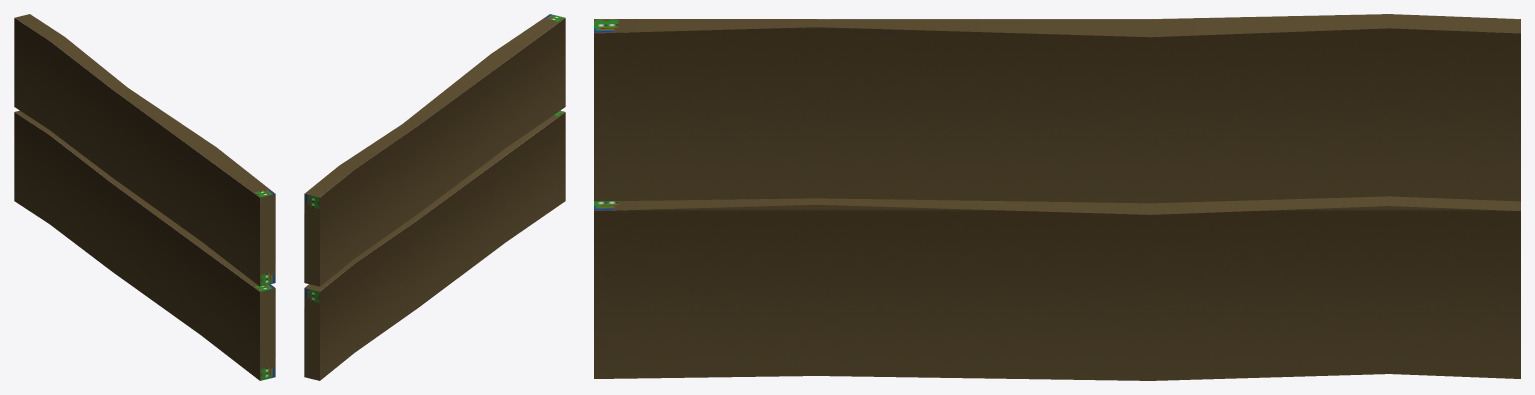
Rendered from planks.fbx.
The picture shows the model from 3 angles, left to right: view 1: azimuth 30°, elevation 25°; view 2: azimuth 150°, elevation 25°; view 3: azimuth 270°, elevation 25°; orthographic projection. The views are drawn at different scales.
Parts seen in each view (by area): view 1: planks; view 2: planks; view 3: planks.
Boxes of the visible parts, left/top/right/bottom form: planks: left=14, top=14, right=275, bottom=380; planks: left=304, top=14, right=565, bottom=380; planks: left=594, top=14, right=1520, bottom=380.
Size of the model in its own units: 0.1839 by 2.11 by 5.
